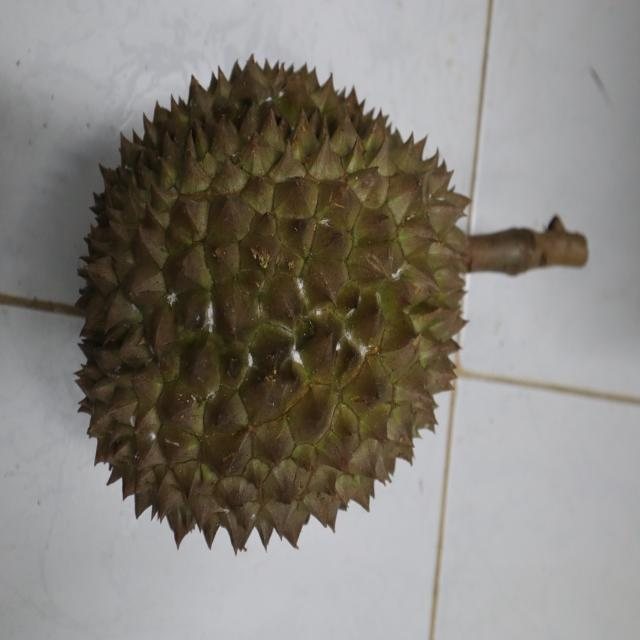mature: (74, 54, 474, 554)
